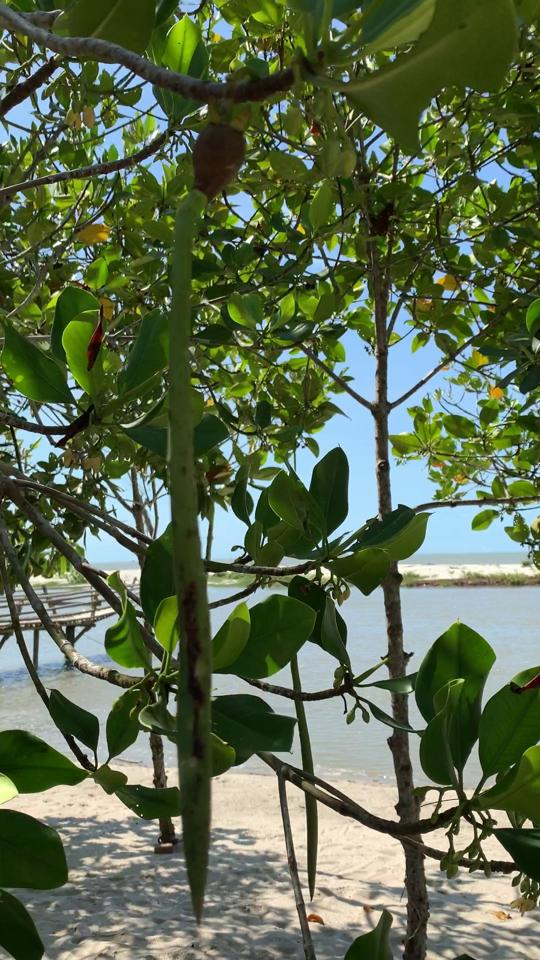setengah matang: (168, 104, 260, 927)
